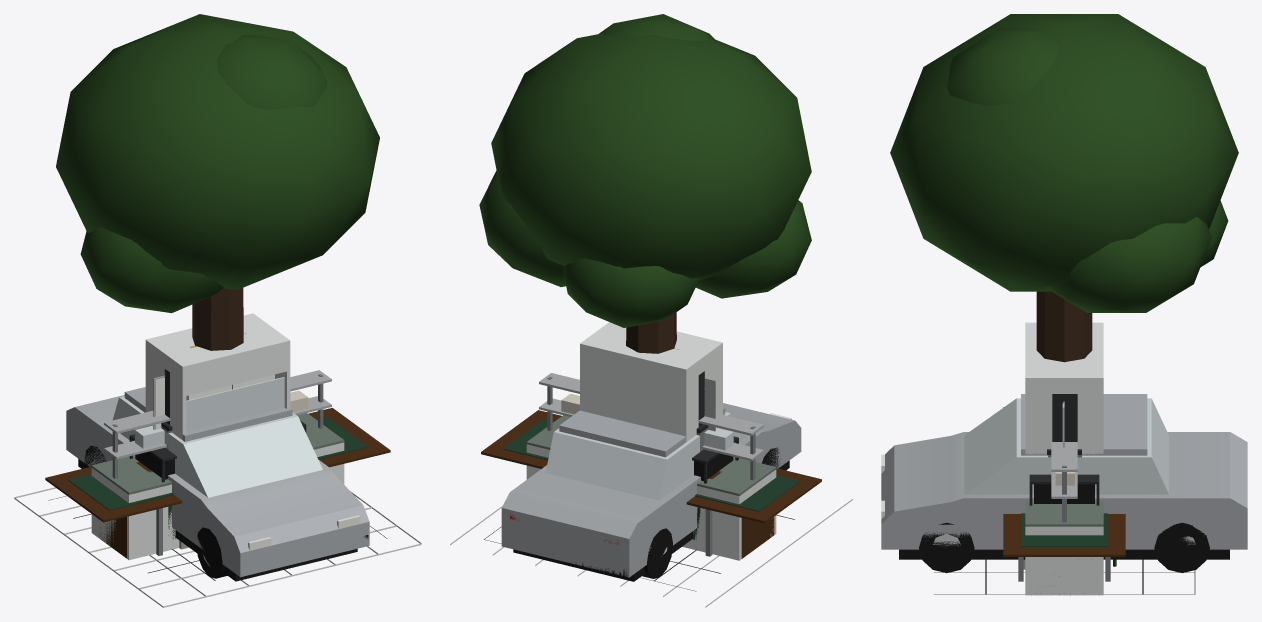
File: campus-kit.glb
3 renders of one model, left to right at view 1: azimuth 30°, elevation 25°; view 2: azimuth 150°, elevation 25°; view 3: azimuth 270°, elevation 25°, orthographic. The views are drawn at different scales.
Visible parts, largest first — view 1: treeSkin.leaf, carSilver.carPaint1, carSilver.glass, fumeHood.labWhite, boardTable.oakDark, labBench.labWhite, fumeHood.glass, treeSkin.bark, labBench.epoxy, labBench.galv, ceilingGrid.white, boardTable.leatherGreen (+5 smaller); view 2: treeSkin.leaf, carSilver.carPaint1, fumeHood.labWhite, carSilver.glass, boardTable.oakDark, labBench.labWhite, labBench.galv, labBench.epoxy, boardTable.leatherGreen, treeSkin.bark, carSilver.tyre, carSilver.plastic (+2 smaller); view 3: treeSkin.leaf, carSilver.carPaint1, carSilver.glass, fumeHood.labWhite, labBench.labWhite, carSilver.tyre, treeSkin.bark, boardTable.oakDark, labBench.epoxy, carSilver.plastic, boardTable.leatherGreen, labBench.galv (+4 smaller).
Part boxes in pixels (x1,y1,x2,y2): treeSkin.leaf: [56, 14, 379, 313]; carSilver.carPaint1: [66, 387, 369, 577]; carSilver.glass: [112, 396, 322, 497]; fumeHood.labWhite: [145, 313, 290, 439]; boardTable.oakDark: [45, 408, 390, 558]; labBench.labWhite: [91, 442, 344, 559]; fumeHood.glass: [186, 377, 284, 431]; treeSkin.bark: [192, 288, 243, 350]; labBench.epoxy: [91, 413, 344, 494]; labBench.galv: [104, 370, 331, 459]; ceilingGrid.white: [14, 487, 421, 607]; boardTable.leatherGreen: [68, 416, 367, 510]; treeSkin.leaf: [479, 14, 811, 327]; carSilver.carPaint1: [501, 403, 801, 577]; fumeHood.labWhite: [580, 322, 722, 547]; carSilver.glass: [545, 412, 747, 500]; boardTable.oakDark: [481, 410, 821, 558]; labBench.labWhite: [526, 444, 776, 560]; labBench.galv: [539, 373, 763, 461]; labBench.epoxy: [526, 415, 776, 495]; boardTable.leatherGreen: [503, 419, 799, 511]; treeSkin.bark: [626, 312, 676, 353]; carSilver.tyre: [642, 447, 783, 578]; carSilver.plastic: [513, 460, 789, 581]; treeSkin.leaf: [890, 14, 1238, 312]; carSilver.carPaint1: [881, 394, 1247, 549]; carSilver.glass: [964, 398, 1168, 494]; fumeHood.labWhite: [1025, 322, 1103, 454]; labBench.labWhite: [1025, 526, 1103, 595]; carSilver.tyre: [919, 522, 1209, 573]; treeSkin.bark: [1036, 291, 1092, 362]; boardTable.oakDark: [1003, 407, 1125, 595]; labBench.epoxy: [1025, 502, 1103, 526]; carSilver.plastic: [899, 549, 1229, 559]; boardTable.leatherGreen: [1021, 513, 1107, 546]; labBench.galv: [1051, 442, 1077, 498].
Size of the model in its own units: 4 by 6.55 by 4.2.
